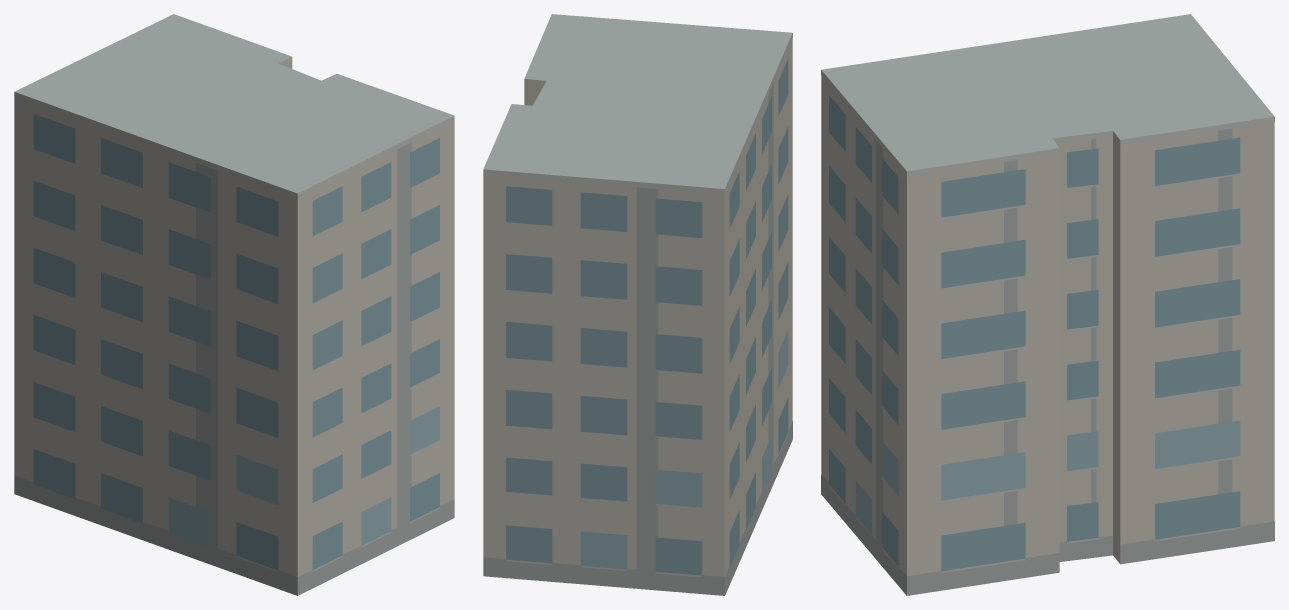
The model's file is survey-upis-32697605.glb.
The picture shows the model from 3 angles, left to right: view 1: azimuth 30°, elevation 25°; view 2: azimuth 150°, elevation 25°; view 3: azimuth 270°, elevation 25°; orthographic projection. The views are drawn at different scales.
Visible parts, largest first — view 1: survey-upis-32697605.tmp; view 2: survey-upis-32697605.tmp; view 3: survey-upis-32697605.tmp.
Part boxes in pixels (bbox=[...]): survey-upis-32697605.tmp: bbox=[14, 14, 454, 595]; survey-upis-32697605.tmp: bbox=[483, 14, 792, 595]; survey-upis-32697605.tmp: bbox=[821, 14, 1274, 595].
Size of the model in its own units: 14.57 by 18.3 by 17.74.
